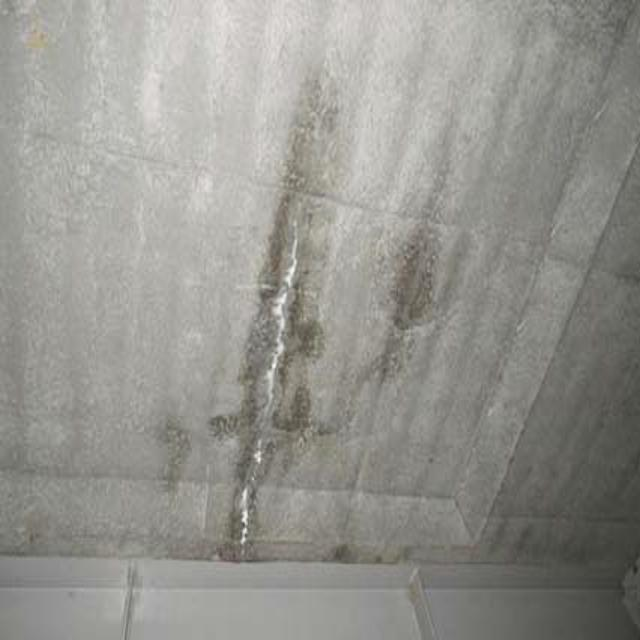freelime: (212, 227, 302, 574)
